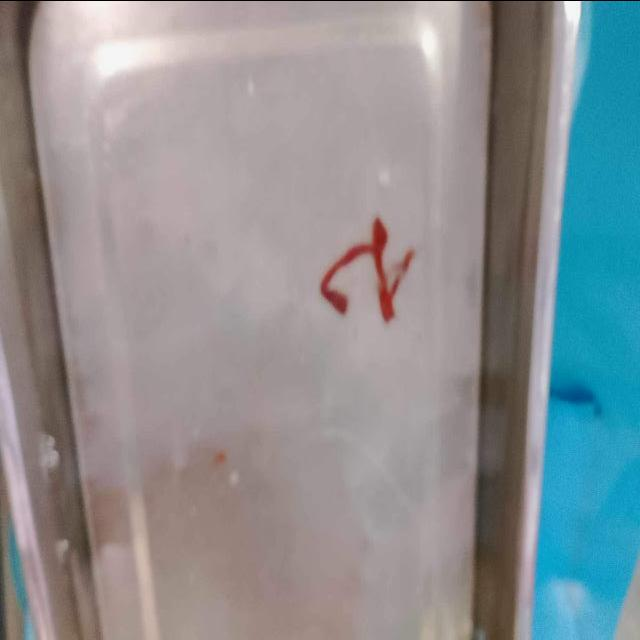Pathological: (18, 1, 495, 638)
